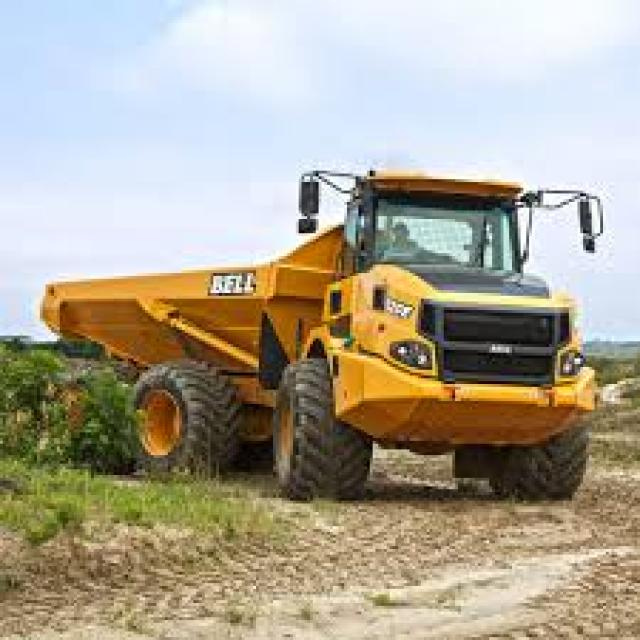dump_truck: (37, 156, 597, 532)
